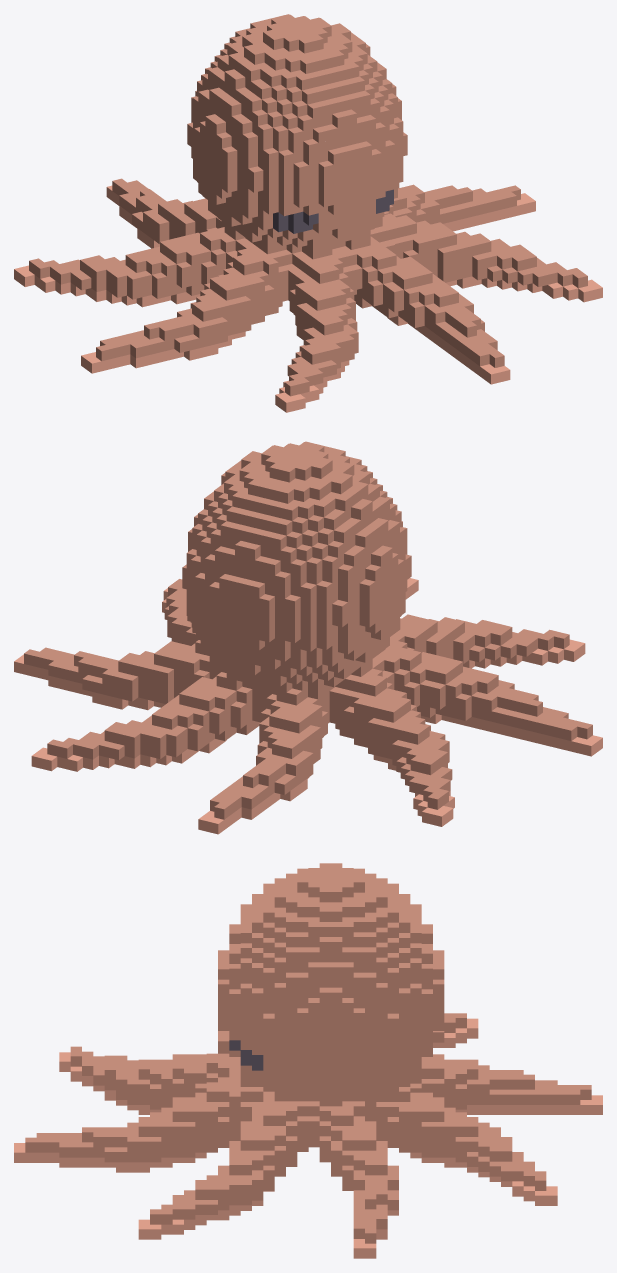
The model's file is octopus.glb.
The picture shows the model from 3 angles, top to bottom: view 1: azimuth 30°, elevation 25°; view 2: azimuth 150°, elevation 25°; view 3: azimuth 270°, elevation 25°; orthographic projection. The views are drawn at different scales.
Visible parts, largest first — view 1: item; view 2: item; view 3: item.
Part boxes in pixels (bbox=[...]): item: bbox=[14, 14, 602, 412]; item: bbox=[14, 441, 602, 834]; item: bbox=[14, 863, 602, 1258].
Bounding box in the file's own units: 52 × 25 × 52.
